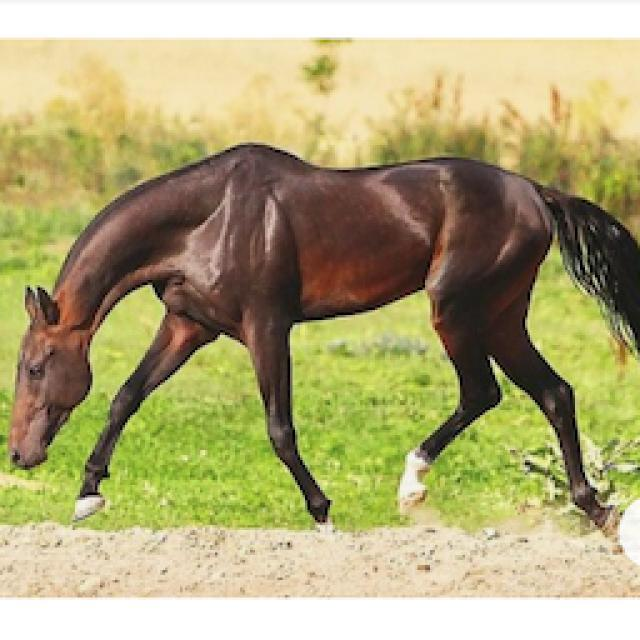Horse: (0, 132, 638, 540)
